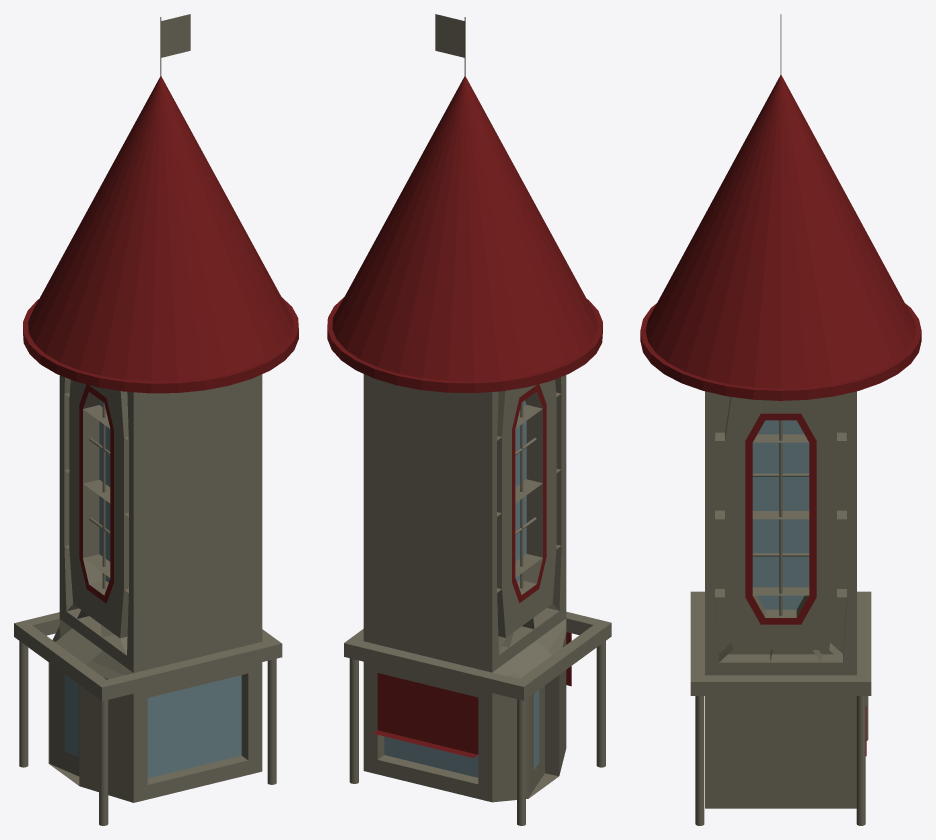
The model's file is TorreVilla.fbx.
3 renders of one model, left to right at view 1: azimuth 30°, elevation 25°; view 2: azimuth 150°, elevation 25°; view 3: azimuth 270°, elevation 25°, orthographic. The views are drawn at different scales.
Parts seen in each view (by area): view 1: Cube; view 2: Cube; view 3: Cube.
Part boxes in pixels (x1,y1,x2,y2): Cube: (14,14,298,825); Cube: (327,14,611,825); Cube: (640,14,921,825).
Bounding box in the file's own units: 374 × 1122 × 370.
